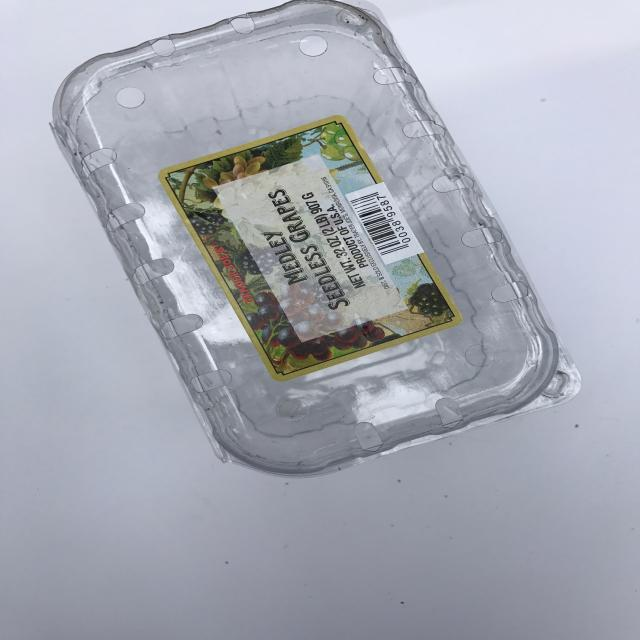plastic: (49, 1, 585, 480)
